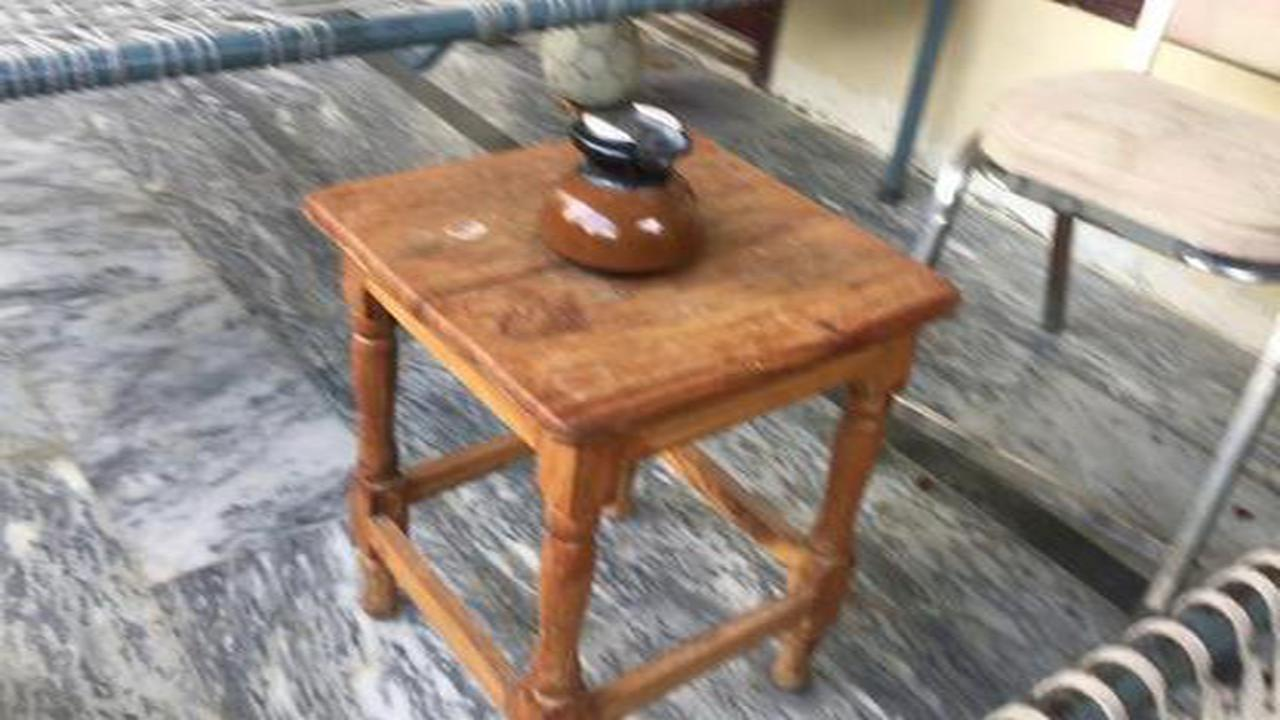insulator_pin: (533, 85, 724, 277)
